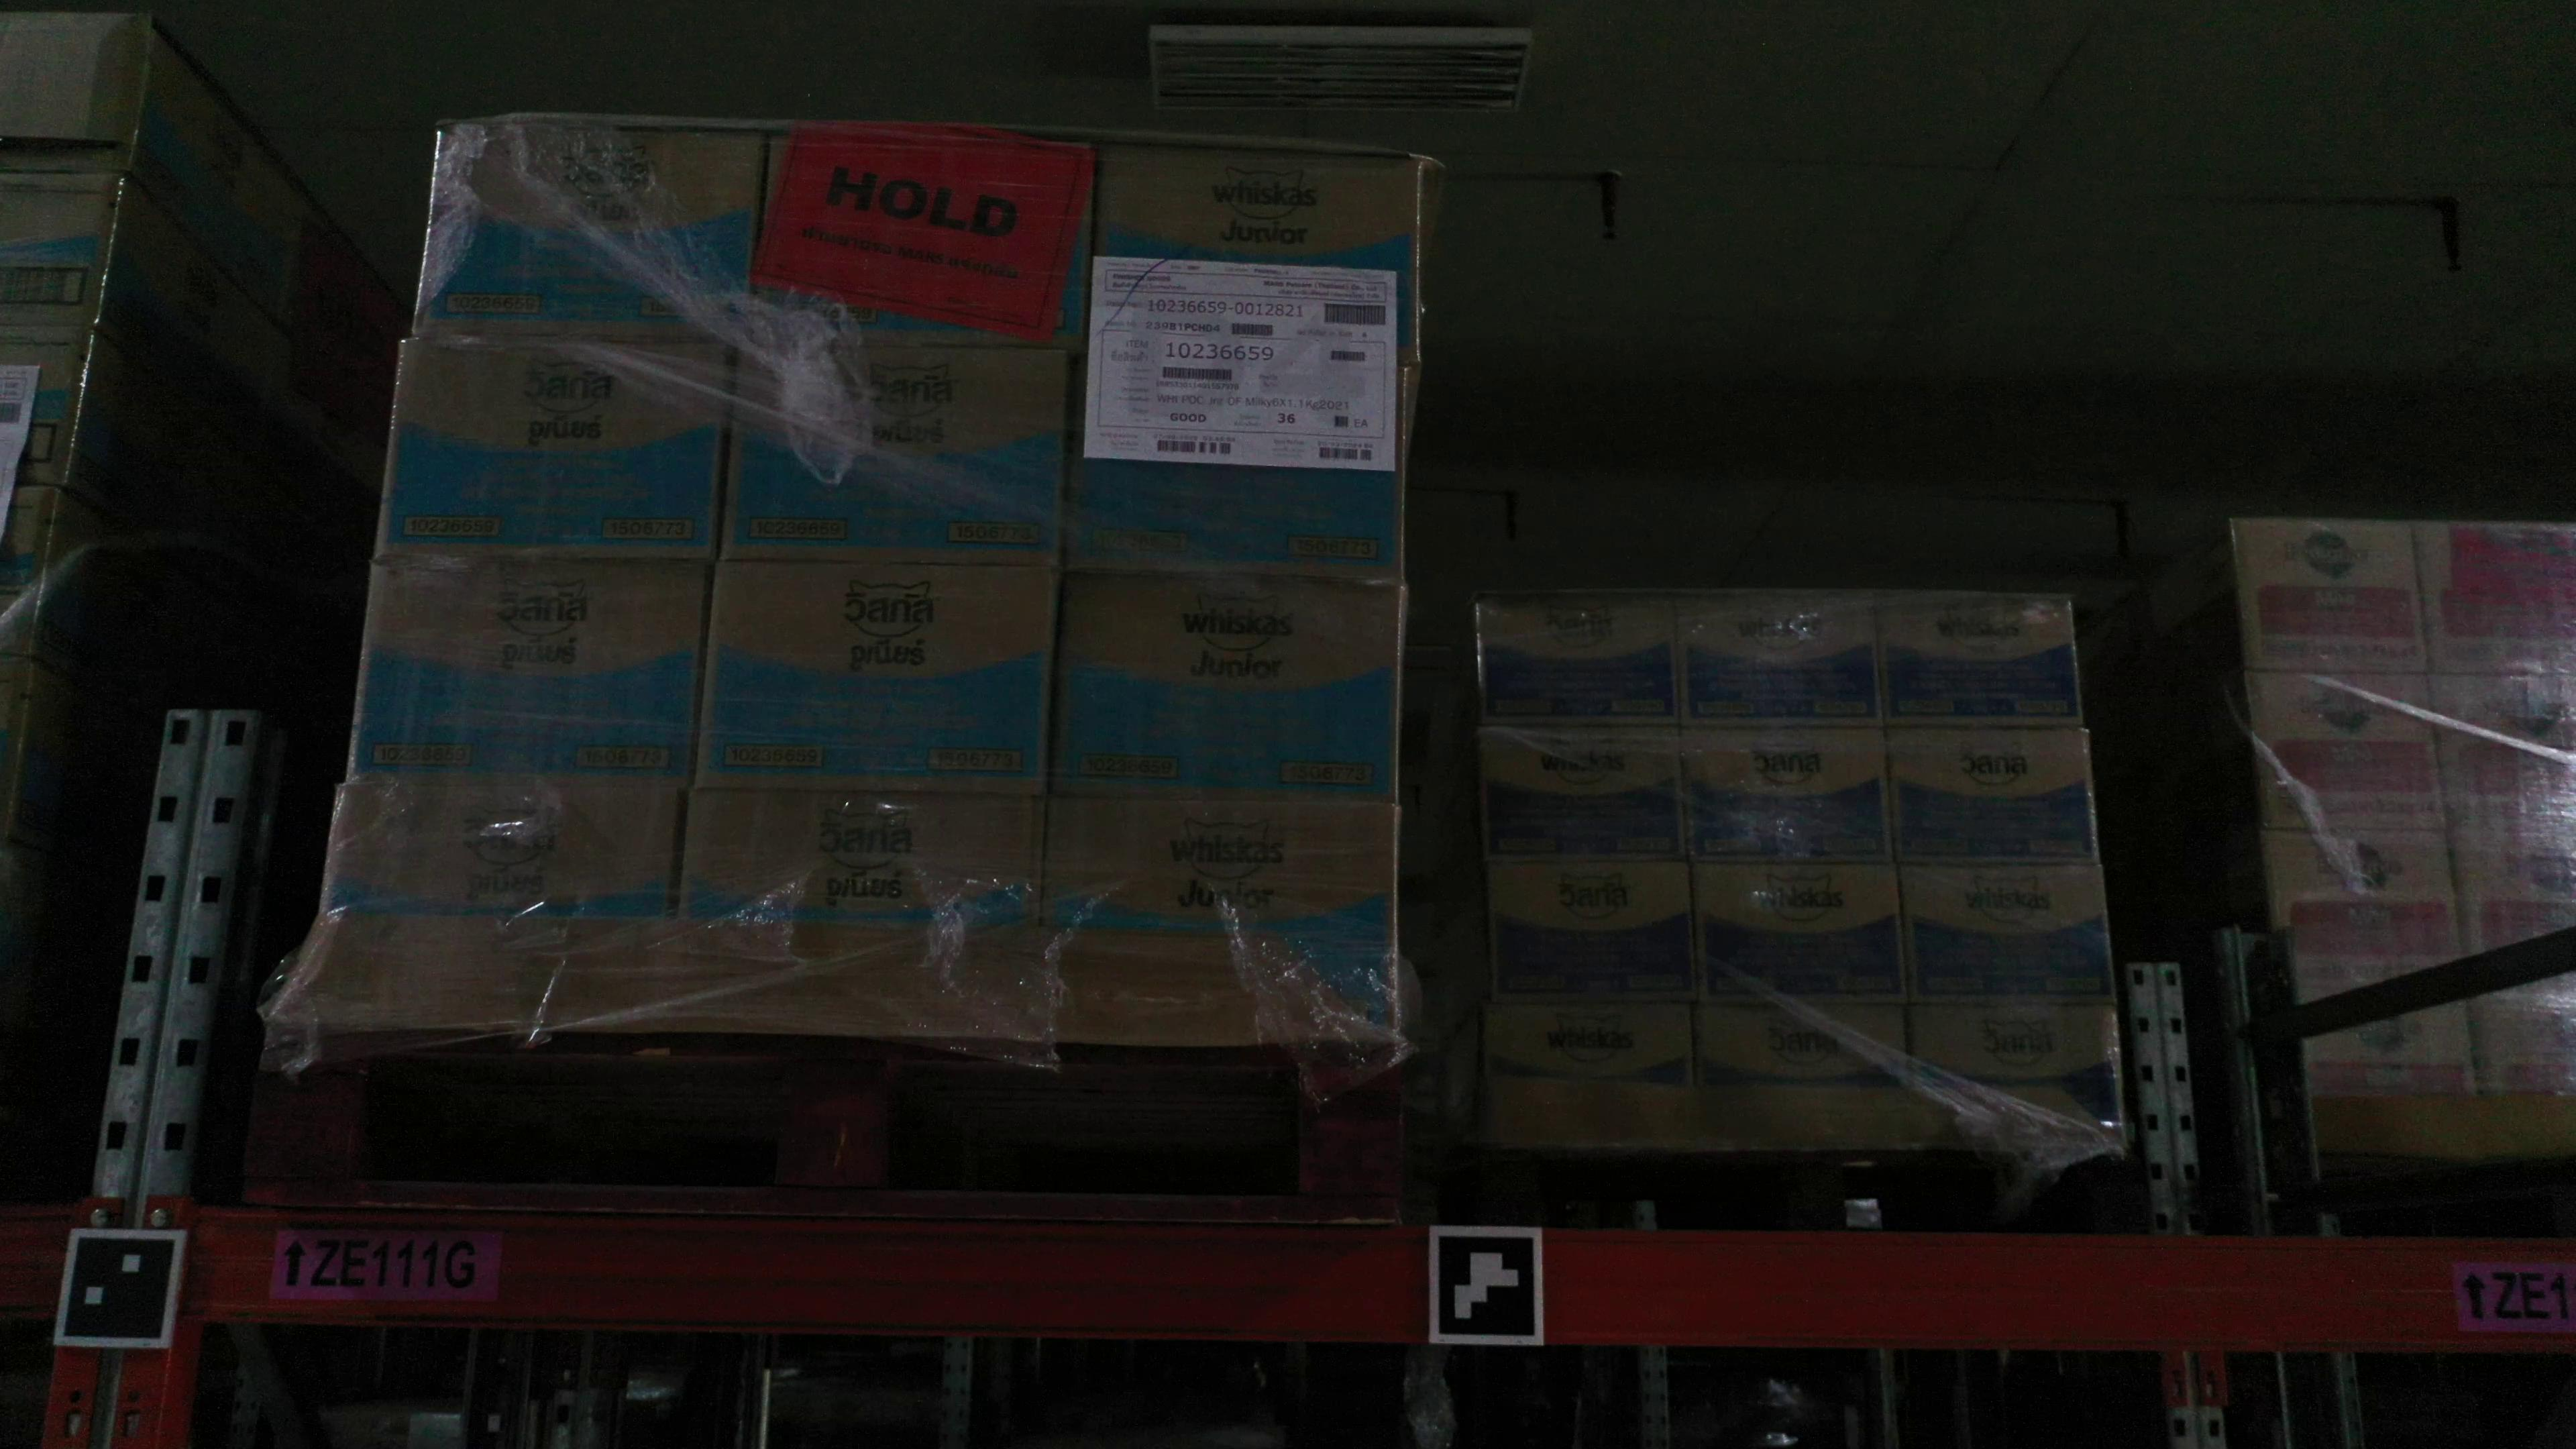-: (1040, 796, 1407, 1040), (694, 559, 1062, 798), (718, 340, 1076, 575), (347, 559, 711, 789), (1047, 575, 1399, 810), (407, 119, 764, 345), (375, 336, 734, 561), (748, 126, 1093, 354), (1067, 357, 1407, 587), (1092, 143, 1426, 364), (671, 789, 1044, 932), (322, 782, 685, 922), (0, 172, 129, 333), (0, 333, 90, 488)
box: (2247, 669, 2450, 833), (2231, 518, 2433, 679), (1686, 858, 1909, 1003), (2268, 830, 2465, 994), (1897, 858, 2118, 1003), (1913, 1003, 2127, 1150), (1672, 584, 1884, 729), (1875, 584, 2084, 729), (1484, 863, 1700, 1003), (1888, 725, 2100, 867), (1681, 725, 1895, 865), (1477, 725, 1688, 865), (1476, 587, 1679, 727), (2410, 524, 2576, 678), (2433, 678, 2576, 837), (1695, 1000, 1916, 1092), (2302, 994, 2482, 1102), (2456, 839, 2576, 998), (1486, 1000, 1700, 1086), (2468, 994, 2576, 1095)
